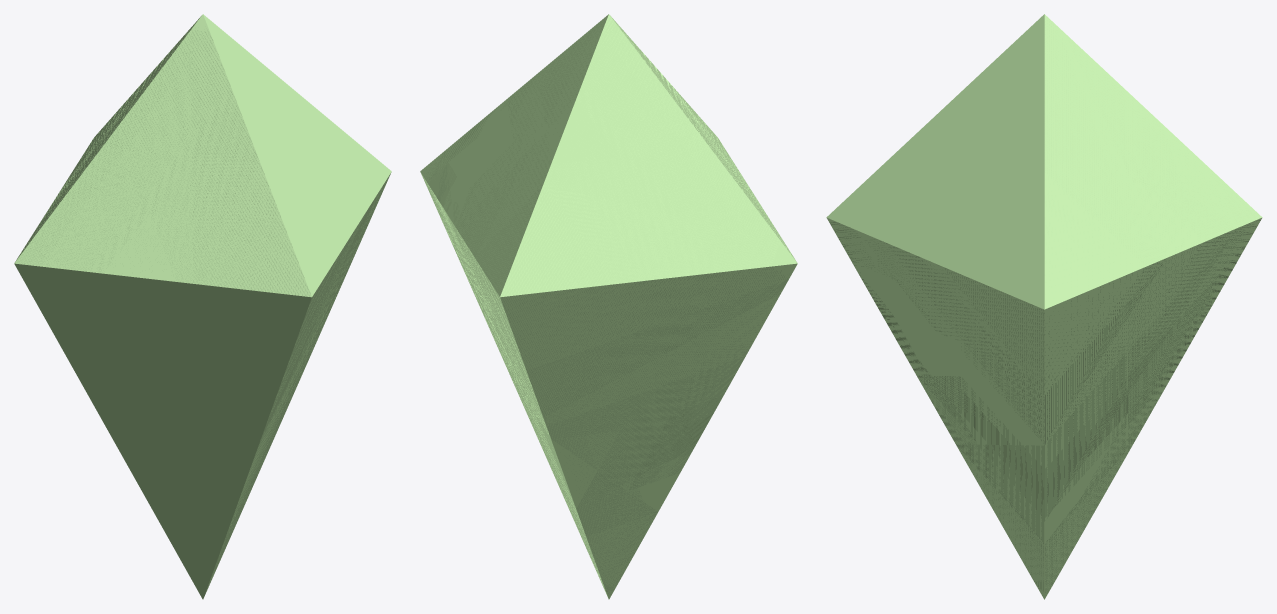
The model's file is hook.obj.
3 views of the same model, side by side, from view 1: azimuth 30°, elevation 25°; view 2: azimuth 150°, elevation 25°; view 3: azimuth 270°, elevation 25° (orthographic).
Visible parts, largest first — view 1: hook; view 2: hook; view 3: hook.
Boxes of the visible parts, x1,y1,x2,y2 form: hook: (14, 14, 391, 599); hook: (420, 14, 797, 599); hook: (826, 14, 1262, 599).
Bounding box in the file's own units: 1.13 × 1.67 × 1.13.
1 material, 1 textured.
